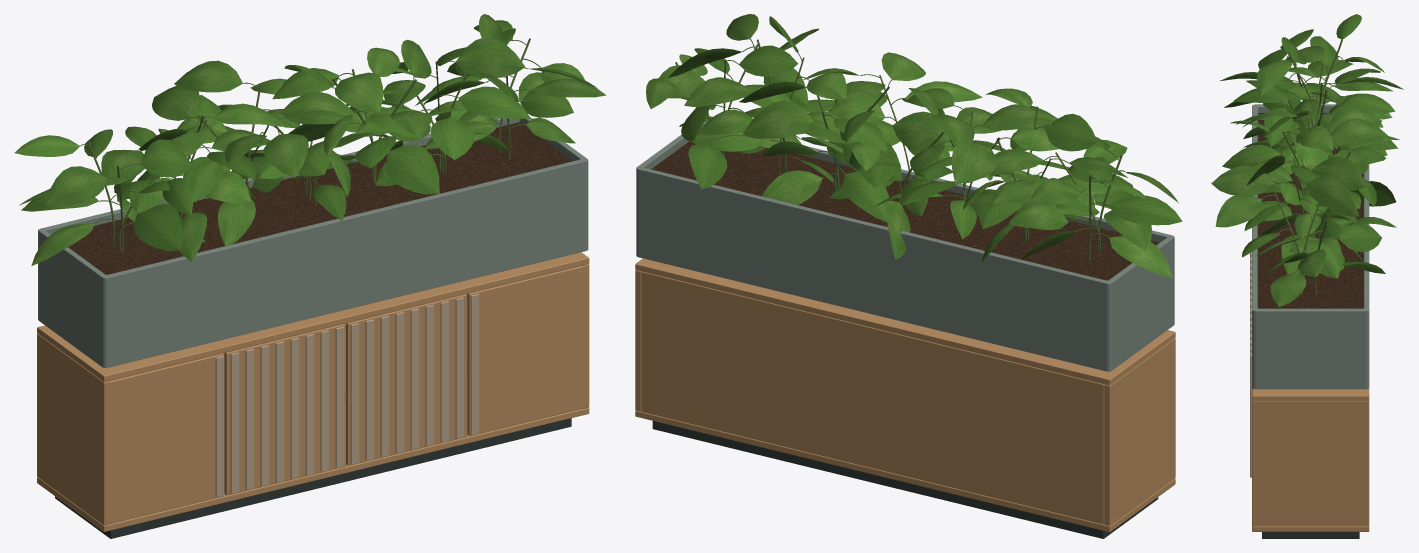
The model's file is botanicalDivider-12.glb.
3 views of the same model, side by side, from view 1: azimuth 30°, elevation 25°; view 2: azimuth 150°, elevation 25°; view 3: azimuth 270°, elevation 25° (orthographic). The views are drawn at different scales.
Visible parts, largest first — view 1: Planter_pothos_leaves, Planter_oiled_oak, StoragePlanter_Door (×4), StoragePlanter_Batten (×18), Planter_loose_soil, StoragePlanter_Side, StoragePlanter_Top, StoragePlanter_Plinth, StoragePlanter_Bottom, Planter_pothos_stems, Planter_matte_accent; view 2: StoragePlanter_Back, Planter_pothos_leaves, Planter_oiled_oak, Planter_loose_soil, StoragePlanter_Side (×2), StoragePlanter_Top, StoragePlanter_Plinth, Planter_matte_accent, StoragePlanter_Bottom, Planter_pothos_stems; view 3: Planter_pothos_leaves, StoragePlanter_Side, Planter_oiled_oak, Planter_loose_soil, Planter_pothos_stems, StoragePlanter_Top, StoragePlanter_Bottom, StoragePlanter_Plinth, StoragePlanter_Batten.
Boxes of the visible parts, x1,y1,x2,y2 form: Planter_pothos_leaves: (14, 14, 606, 265); Planter_oiled_oak: (38, 117, 588, 367); StoragePlanter_Door (×4): (105, 265, 588, 524); StoragePlanter_Batten (×18): (215, 293, 479, 497); Planter_loose_soil: (68, 122, 572, 274); StoragePlanter_Side: (37, 333, 109, 525); StoragePlanter_Top: (37, 252, 589, 381); StoragePlanter_Plinth: (55, 418, 571, 538); StoragePlanter_Bottom: (37, 374, 589, 531); Planter_pothos_stems: (80, 38, 541, 252); Planter_matte_accent: (113, 225, 577, 340); StoragePlanter_Back: (641, 271, 1104, 524); Planter_pothos_leaves: (646, 14, 1182, 277); Planter_oiled_oak: (636, 122, 1174, 371); Planter_loose_soil: (651, 140, 1159, 280); StoragePlanter_Side (×2): (635, 270, 1175, 525); StoragePlanter_Top: (635, 258, 1175, 385); StoragePlanter_Plinth: (652, 421, 1158, 538); Planter_matte_accent: (645, 240, 1102, 352); StoragePlanter_Bottom: (635, 410, 1175, 532); Planter_pothos_stems: (675, 39, 1125, 259); Planter_pothos_leaves: (1211, 14, 1403, 307); StoragePlanter_Side: (1252, 401, 1369, 526); Planter_oiled_oak: (1252, 104, 1369, 389); Planter_loose_soil: (1258, 113, 1363, 308); Planter_pothos_stems: (1262, 39, 1350, 295); StoragePlanter_Top: (1252, 388, 1369, 401); StoragePlanter_Bottom: (1252, 526, 1369, 531); StoragePlanter_Plinth: (1262, 532, 1359, 538); StoragePlanter_Batten: (1250, 352, 1251, 477).
Size of the model in its own units: 2.26 by 1.58 by 0.7924.
Materials: 10 (2 with a texture image).
